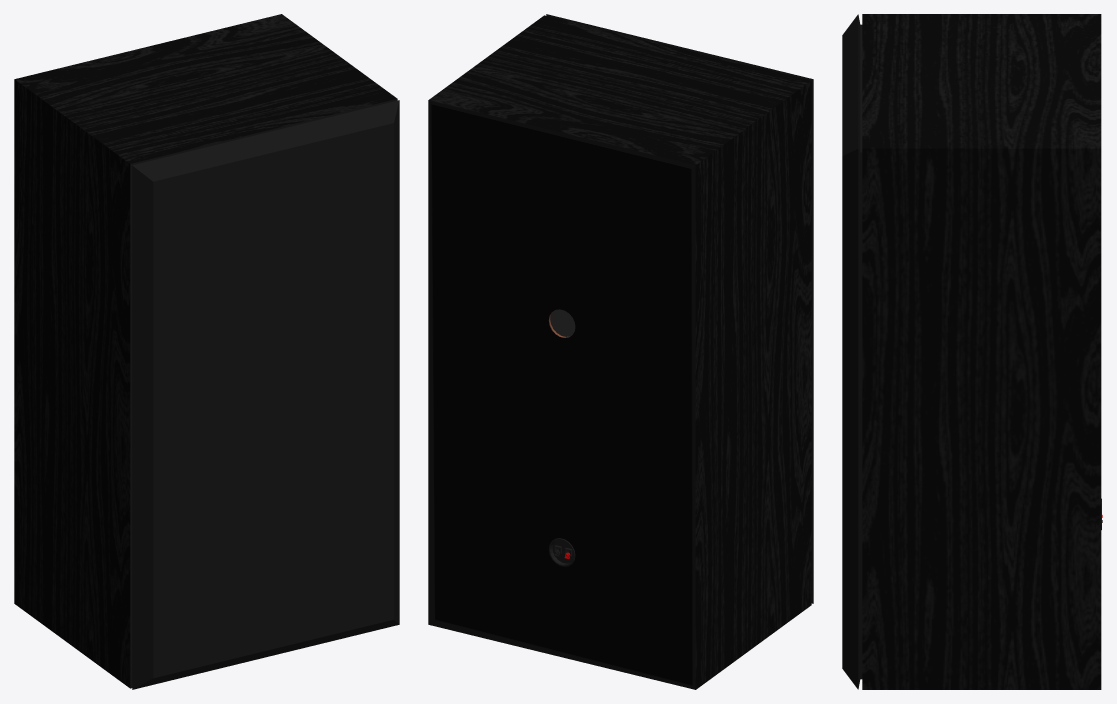
Rendered from Speaker.fbx.
3 views of the same model, side by side, from view 1: azimuth 30°, elevation 25°; view 2: azimuth 150°, elevation 25°; view 3: azimuth 270°, elevation 25° (orthographic). The views are drawn at different scales.
Visible parts, largest first — view 1: Lautsprecher; view 2: Lautsprecher; view 3: Lautsprecher.
Boxes of the visible parts, x1=… form: Lautsprecher: x1=14, y1=14, x2=399, y2=689; Lautsprecher: x1=428, y1=14, x2=813, y2=689; Lautsprecher: x1=842, y1=14, x2=1101, y2=689.
Bounding box in the file's own units: 40 × 75.37 × 32.66.
